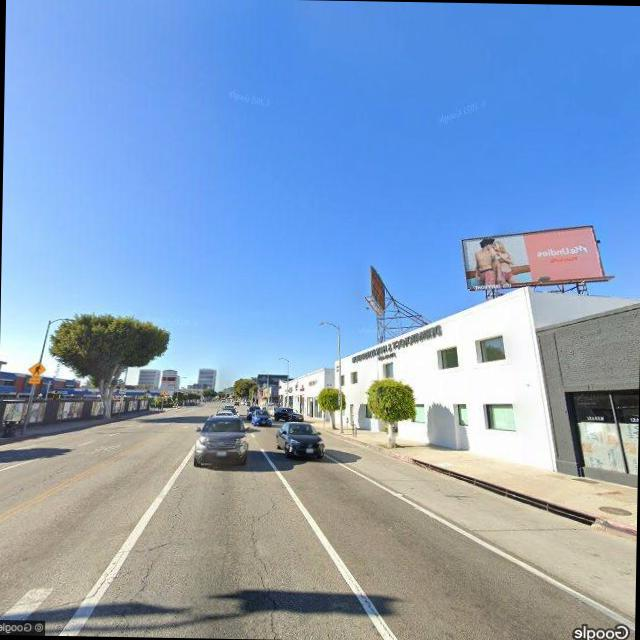pothole: (243, 487, 290, 638), (116, 536, 174, 630)
